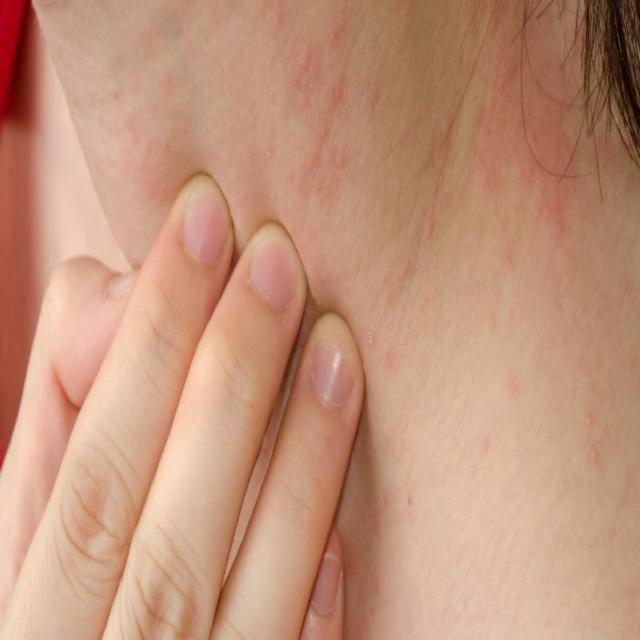hives: (222, 5, 628, 311)
